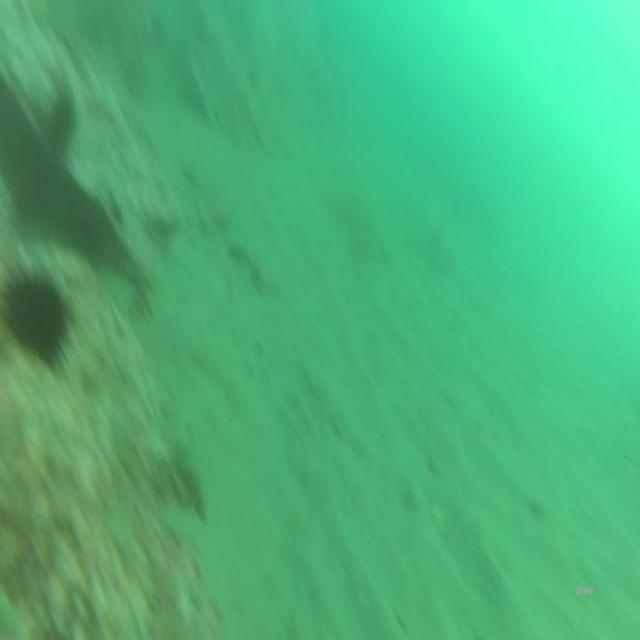echinus: (0, 248, 76, 373), (42, 79, 84, 156)
